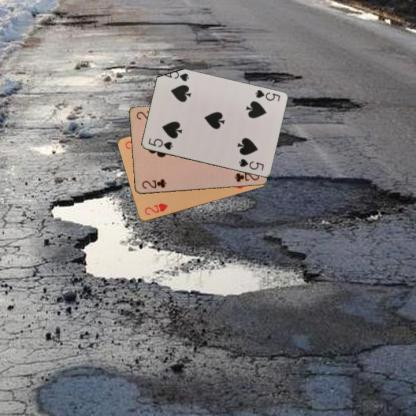2c: (139, 176, 168, 190)
2h: (142, 201, 168, 217)
5s: (252, 87, 281, 103), (146, 136, 174, 151)
